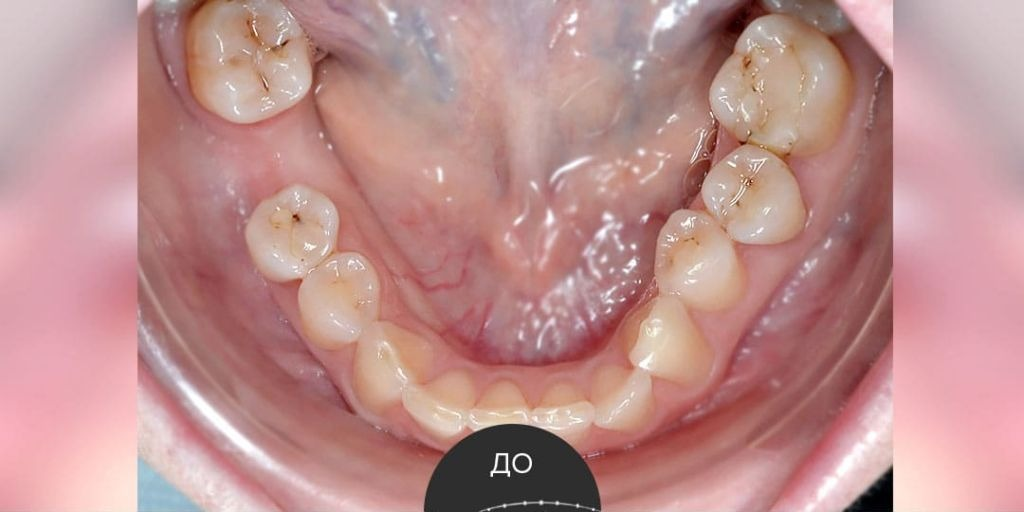LL1BC_decay: (653, 210, 746, 310)
LL1M_decay: (707, 13, 849, 151)
LL2BC_decay: (703, 149, 811, 248)
LLCI_healthy: (538, 379, 593, 434)
LLC_healthy: (623, 296, 714, 387)
LLLI_healthy: (590, 362, 660, 432)
LR1BC_decay: (302, 257, 375, 338)
LR2BC_decay: (250, 183, 343, 275)
LR2M_decay: (187, 1, 314, 122)
LRCI_healthy: (476, 374, 529, 421)
LRC_healthy: (363, 322, 429, 401)
LRLI_healthy: (412, 366, 474, 433)
